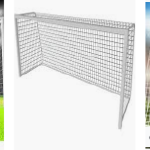goals: (14, 10, 137, 131)
